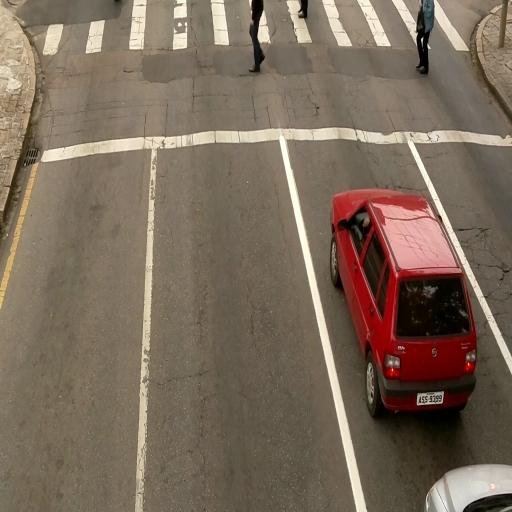car: (328, 185, 478, 422), (423, 463, 511, 510)
